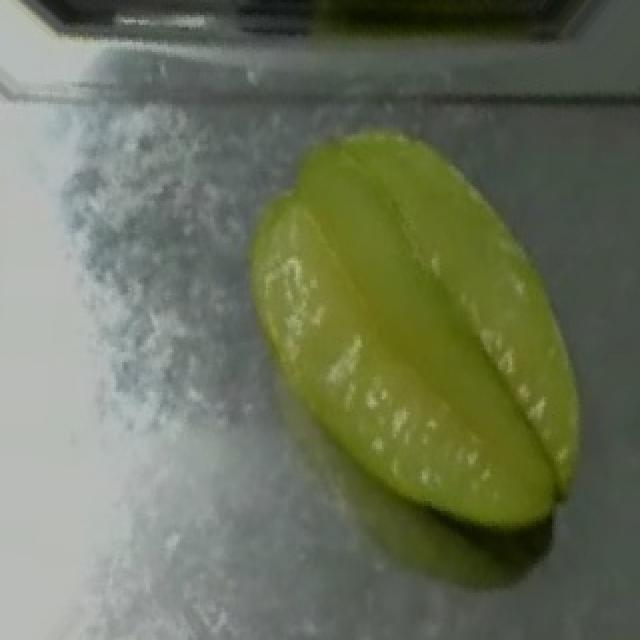fruit: (228, 109, 612, 538)
